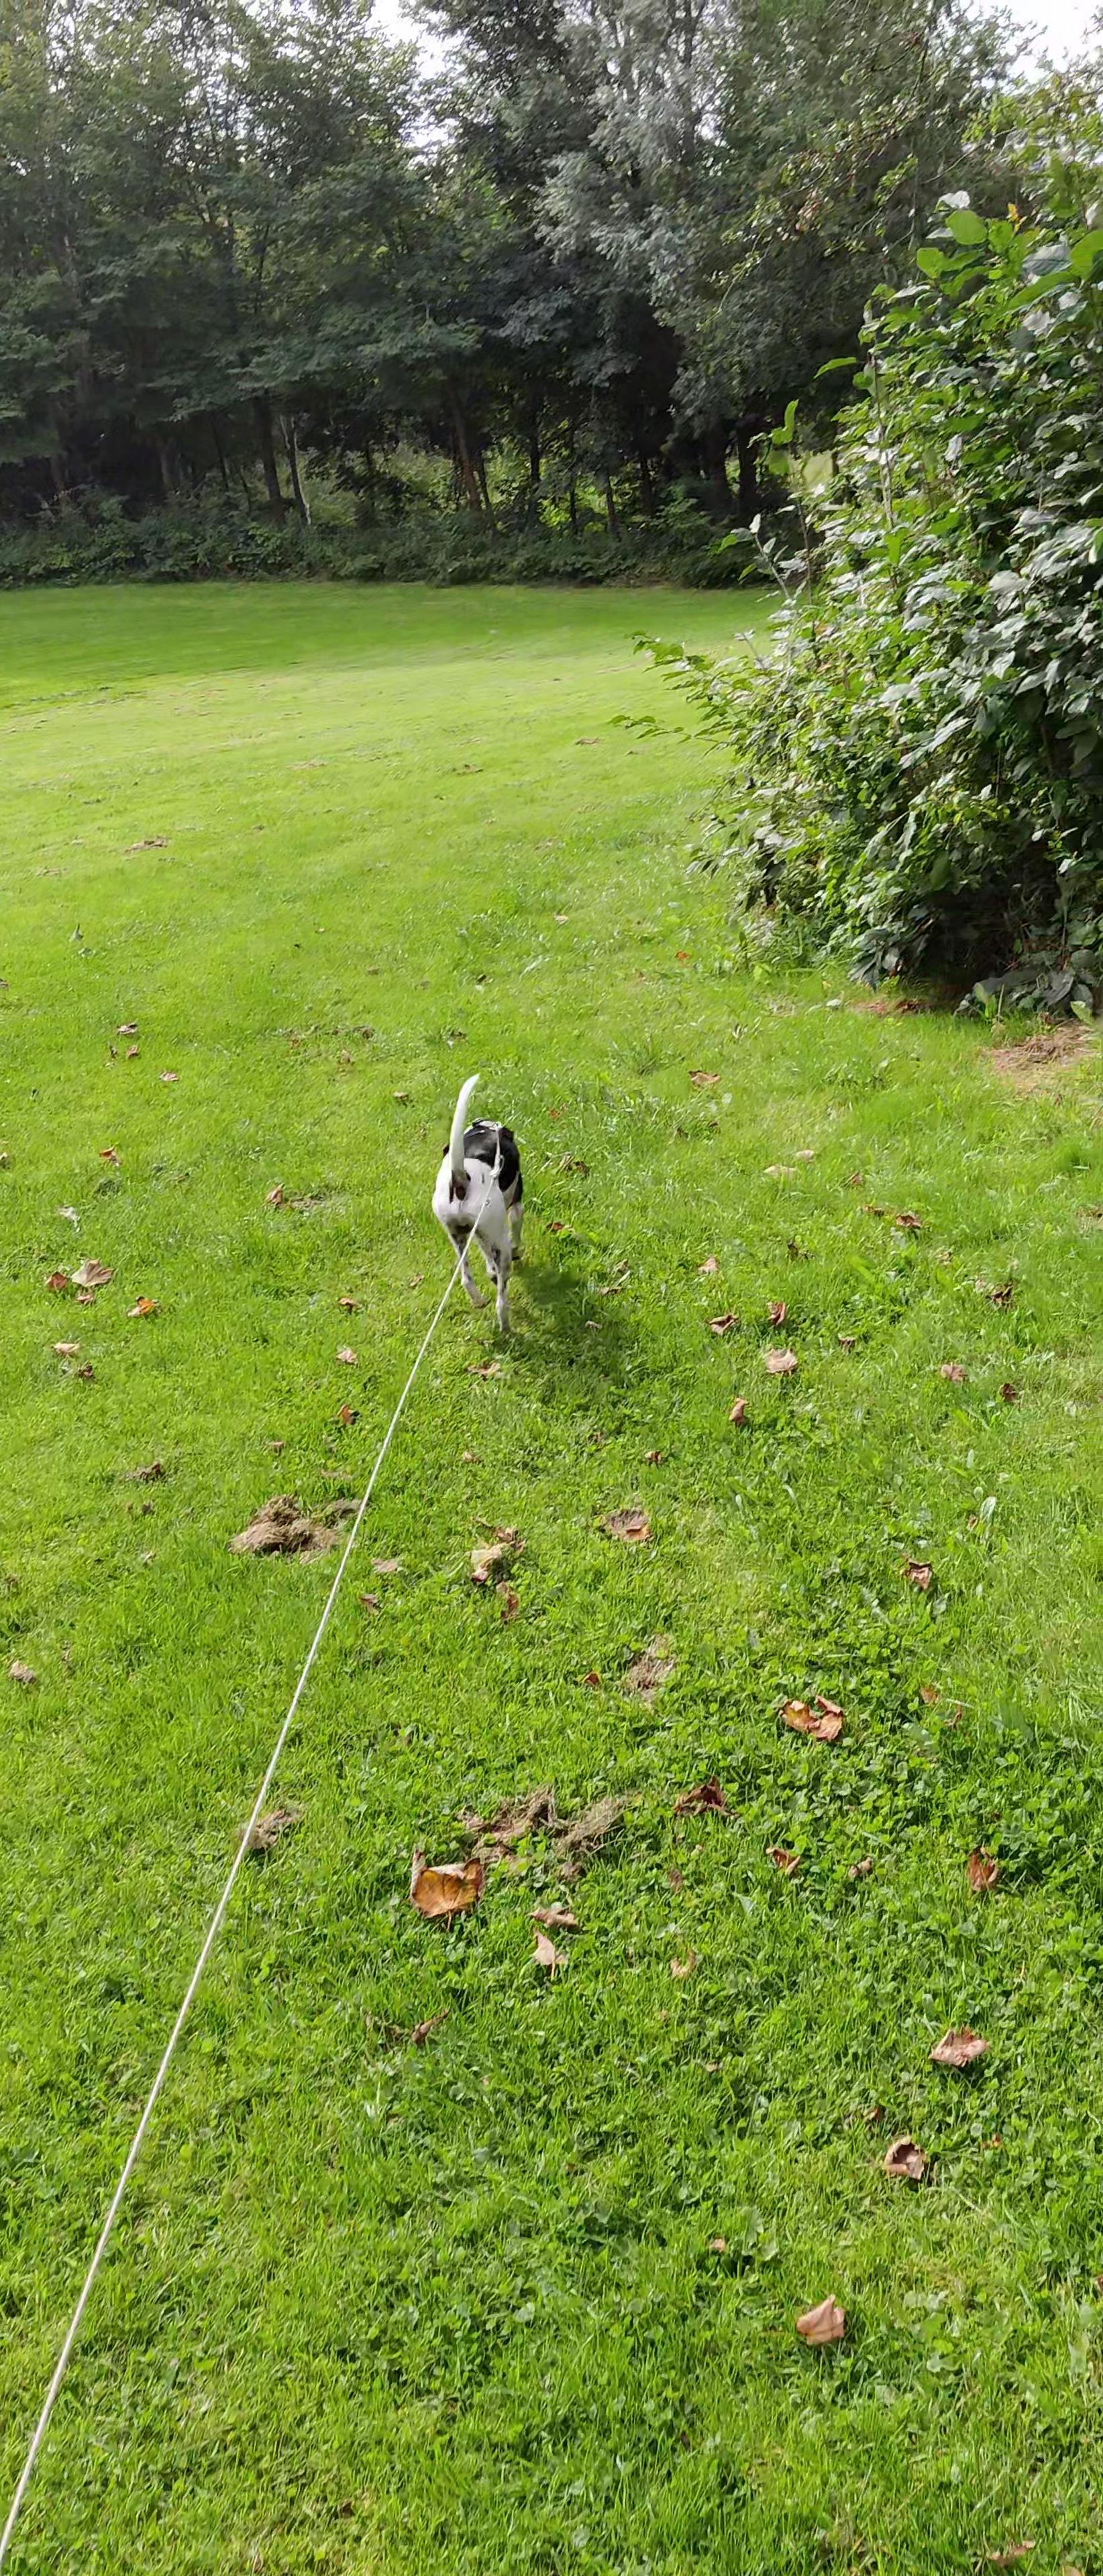Dog: (409, 1056, 557, 1352)
